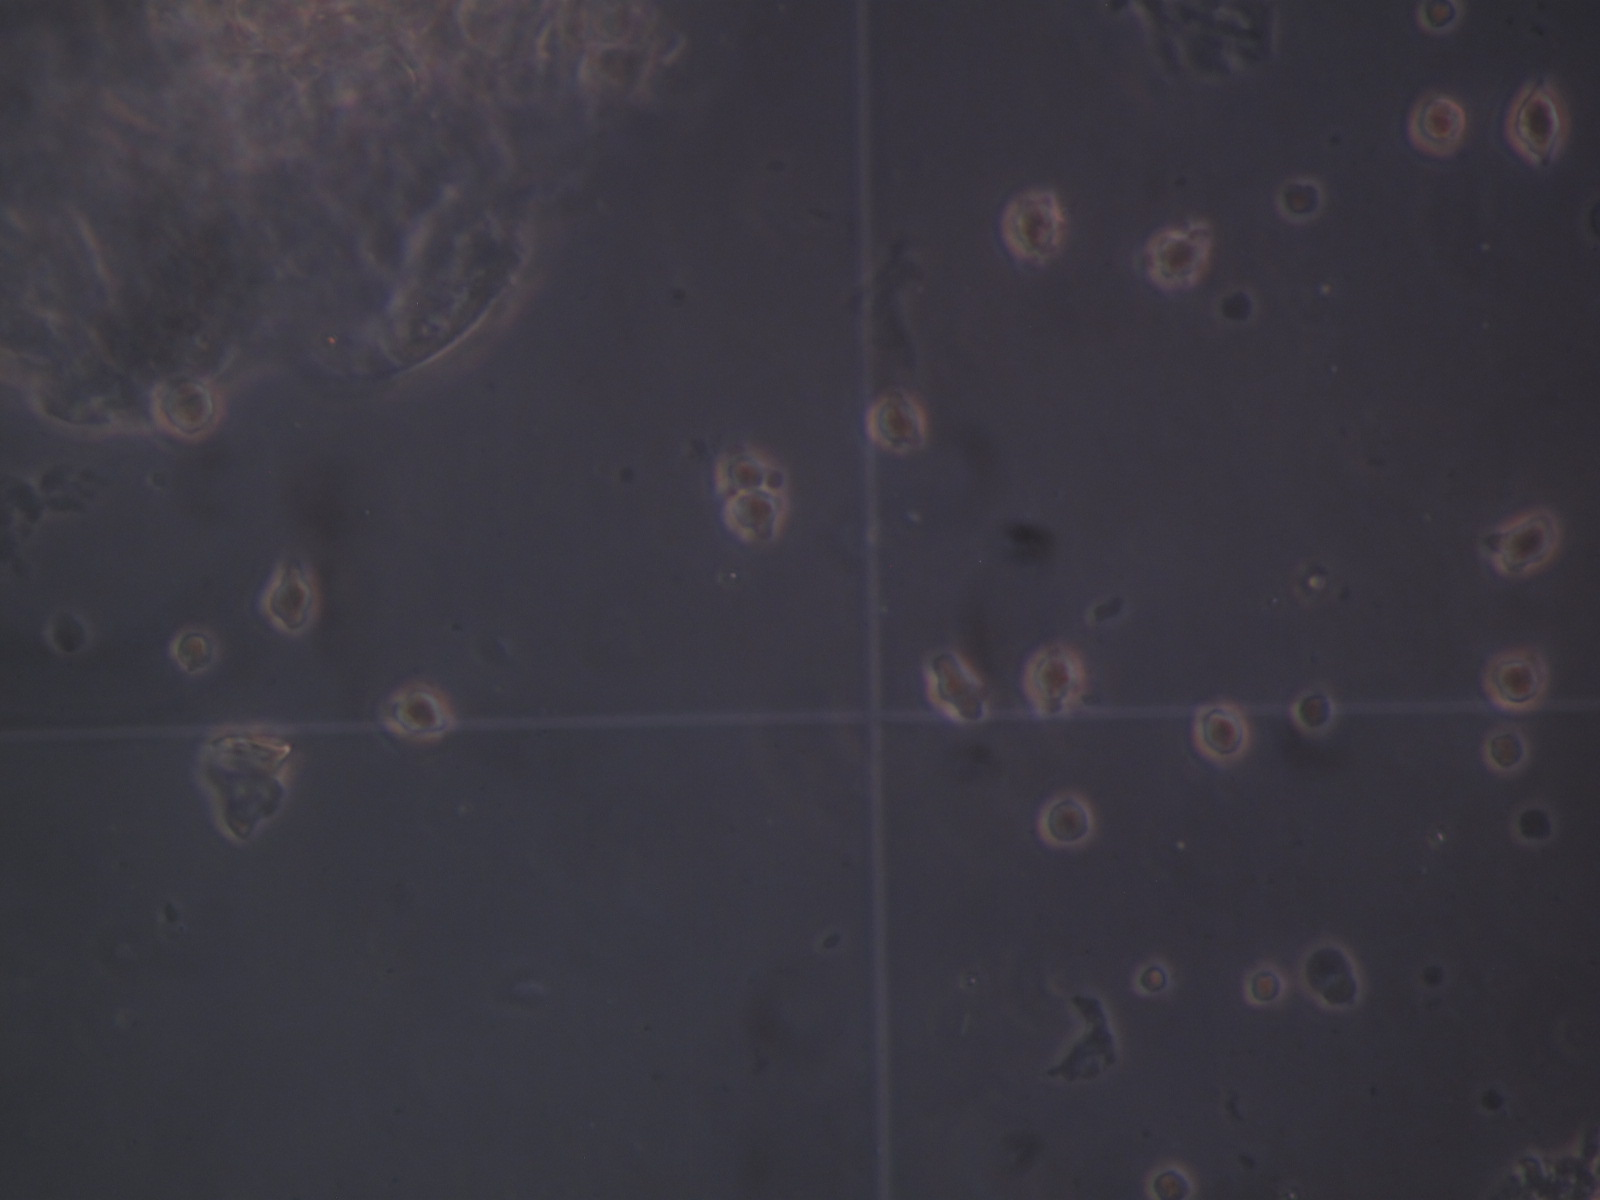hemo: (151, 378, 228, 446), (380, 678, 459, 744), (1477, 644, 1546, 712), (1507, 86, 1569, 161), (923, 652, 986, 722), (1490, 513, 1558, 575), (1003, 192, 1062, 260), (862, 395, 926, 455), (1407, 93, 1466, 158), (721, 489, 787, 546), (1026, 644, 1086, 705), (1146, 228, 1208, 287), (260, 574, 319, 632), (1194, 700, 1249, 761), (1038, 792, 1095, 850), (1479, 726, 1529, 775), (1299, 942, 1351, 989), (171, 626, 218, 676), (1243, 961, 1286, 1007), (1280, 179, 1323, 222), (1293, 689, 1335, 732), (713, 455, 769, 488), (1143, 1166, 1194, 1200), (1415, 1, 1460, 35), (1315, 976, 1361, 1008), (1136, 963, 1172, 995)
